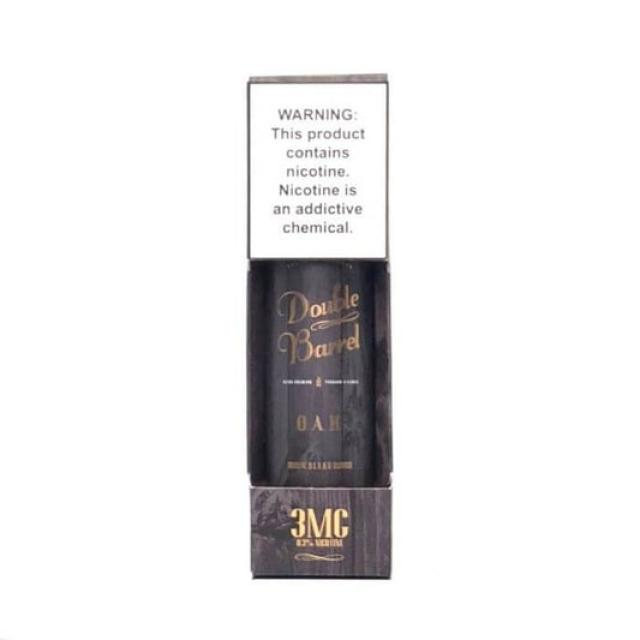Vapes: (242, 72, 394, 580)
